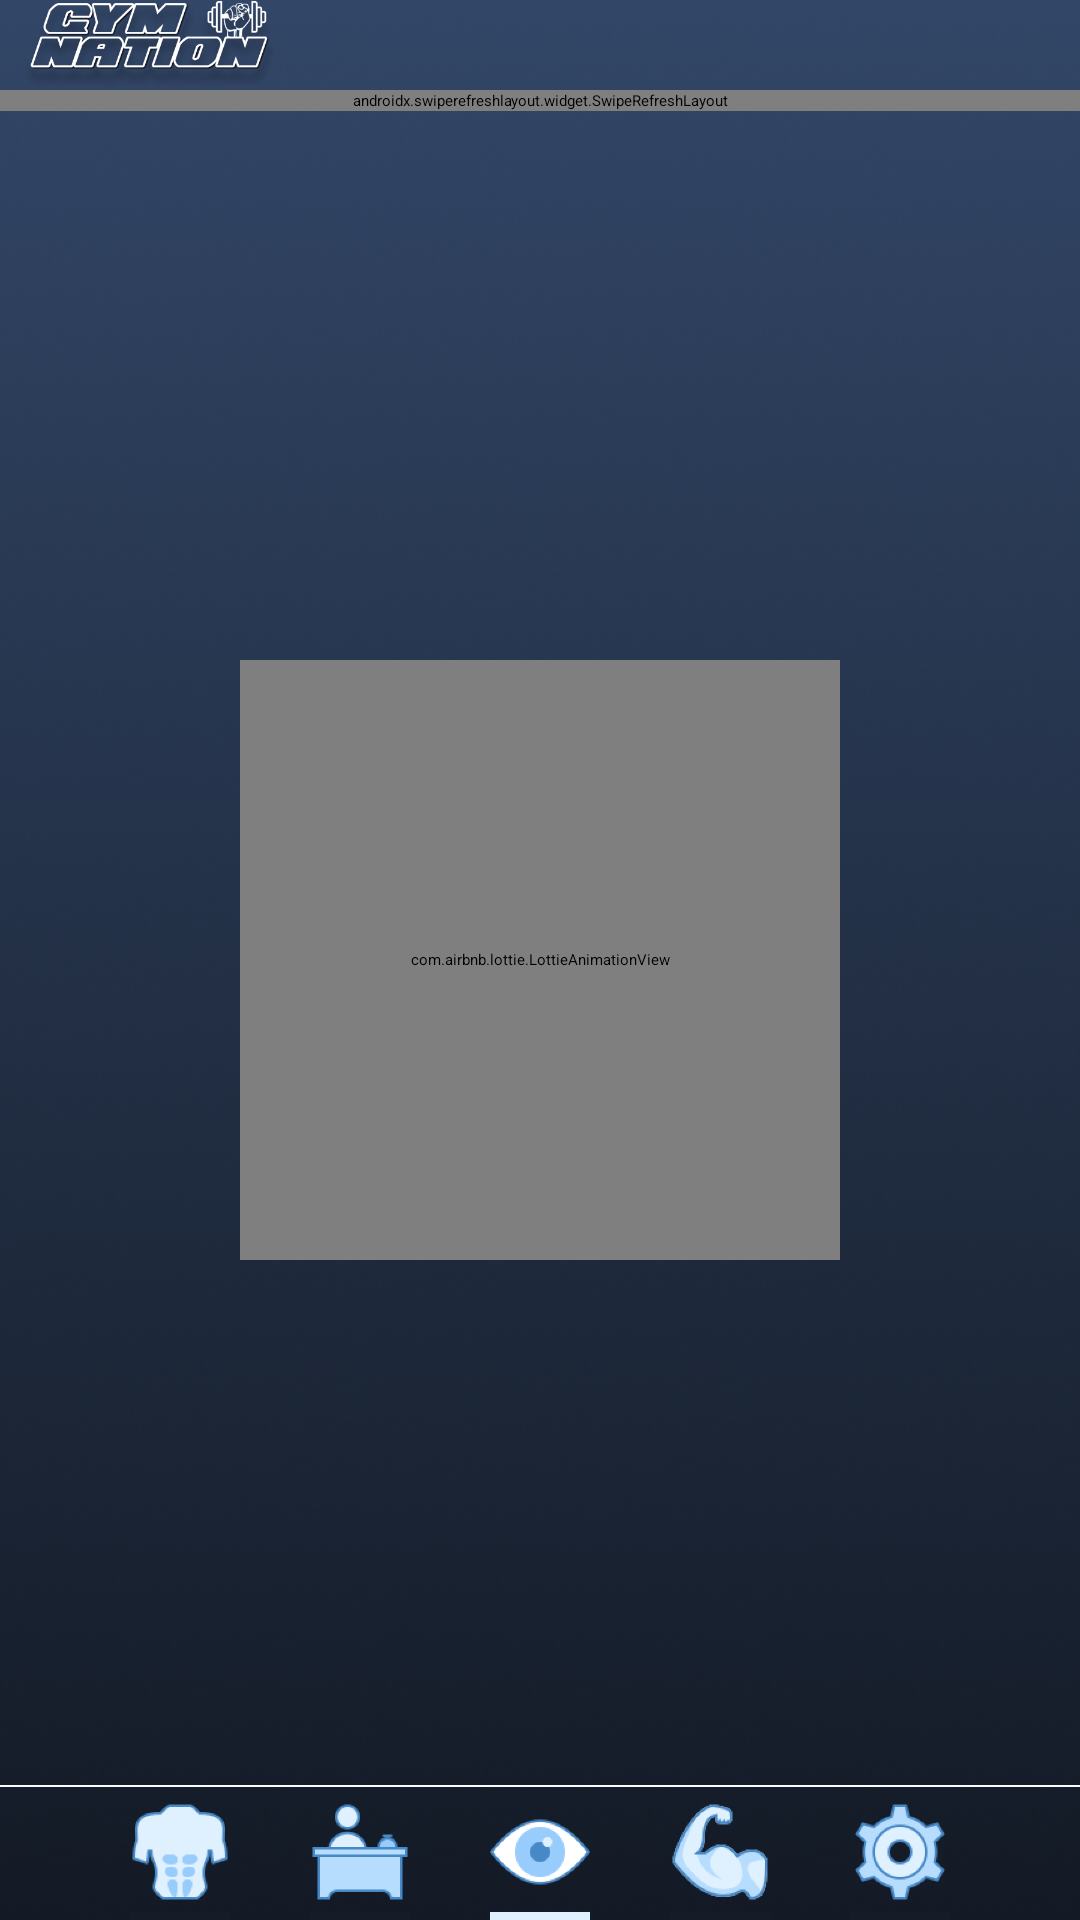

Point at icon controls on the screen. Image size 1080*1920, points as (x=x, y=y).
setting not: (x=900, y=1852)
